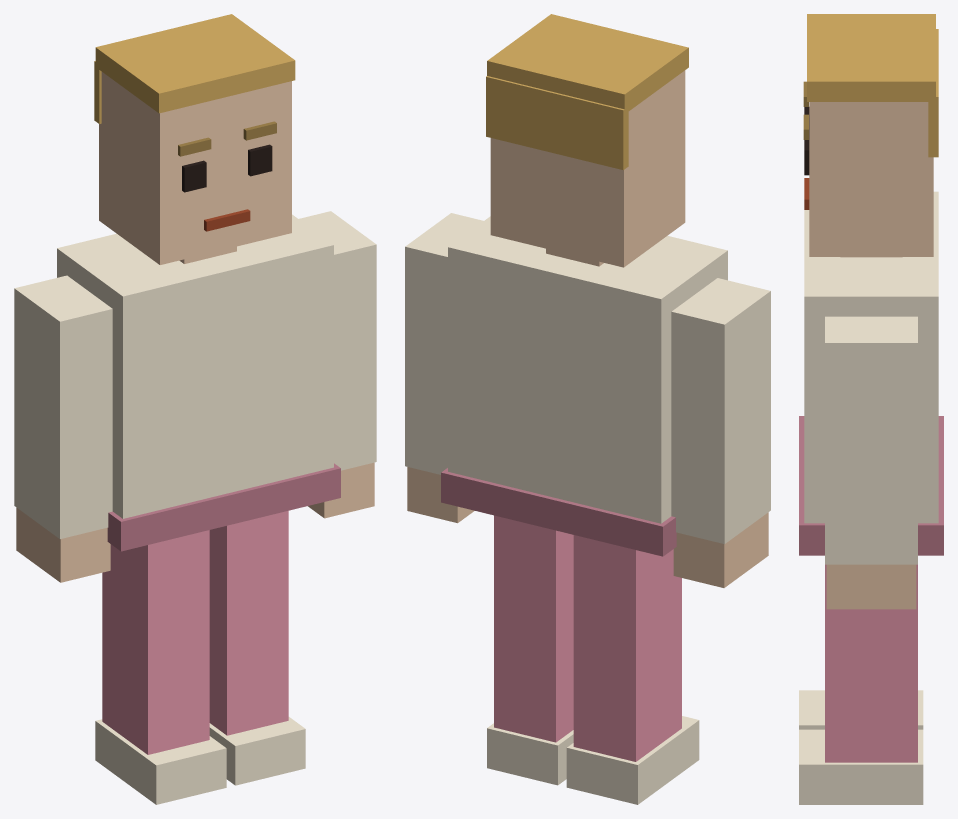
File: frosty.glb
3 views of the same model, side by side, from view 1: azimuth 30°, elevation 25°; view 2: azimuth 150°, elevation 25°; view 3: azimuth 270°, elevation 25° (orthographic).
Parts seen in each view (by area): view 1: Box9, Box12, Box7, Box5, Box1, Box18, Box3, Box10, Box6, Box2, Box8, Box4 (+2 smaller); view 2: Box9, Box7, Box12, Box5, Box1, Box18, Box3, Box19, Box10, Box6, Box8, Box2 (+1 smaller); view 3: Box3, Box12, Box9, Box1, Box18, Box2, Box4, Box10, Box6, Box19.
Boxes of the visible parts, x1=… form: Box9: x1=57, y1=214, x2=333, y2=518; Box12: x1=99, y1=72, x2=291, y2=264; Box7: x1=14, y1=275, x2=112, y2=538; Box5: x1=102, y1=530, x2=209, y2=754; Box1: x1=209, y1=510, x2=288, y2=735; Box18: x1=95, y1=14, x2=295, y2=113; Box3: x1=299, y1=211, x2=376, y2=470; Box10: x1=107, y1=463, x2=340, y2=551; Box6: x1=95, y1=719, x2=226, y2=804; Box2: x1=209, y1=717, x2=305, y2=785; Box8: x1=16, y1=507, x2=110, y2=582; Box4: x1=308, y1=462, x2=374, y2=518; Box9: x1=448, y1=216, x2=727, y2=523; Box7: x1=671, y1=278, x2=770, y2=544; Box12: x1=490, y1=70, x2=685, y2=267; Box5: x1=573, y1=535, x2=681, y2=761; Box1: x1=494, y1=515, x2=573, y2=742; Box18: x1=487, y1=14, x2=688, y2=113; Box3: x1=405, y1=213, x2=483, y2=474; Box19: x1=486, y1=76, x2=628, y2=170; Box10: x1=441, y1=468, x2=676, y2=556; Box6: x1=566, y1=716, x2=699, y2=804; Box8: x1=673, y1=512, x2=768, y2=587; Box2: x1=487, y1=723, x2=573, y2=785; Box3: x1=825, y1=316, x2=917, y2=564; Box12: x1=809, y1=102, x2=933, y2=256; Box9: x1=804, y1=191, x2=938, y2=523; Box1: x1=825, y1=564, x2=917, y2=762; Box18: x1=807, y1=14, x2=935, y2=101; Box2: x1=799, y1=729, x2=923, y2=804; Box4: x1=826, y1=564, x2=916, y2=609; Box10: x1=799, y1=416, x2=943, y2=555; Box6: x1=799, y1=690, x2=923, y2=729; Box19: x1=928, y1=29, x2=938, y2=157.
Size of the model in its own units: 0.8165 by 1.74 by 0.3175.
